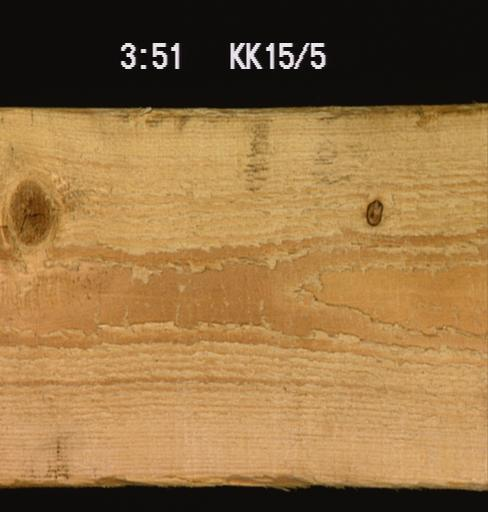dry_knot: (363, 197, 384, 227)
sound_knot: (5, 174, 53, 246)
wave: (0, 464, 329, 486)
